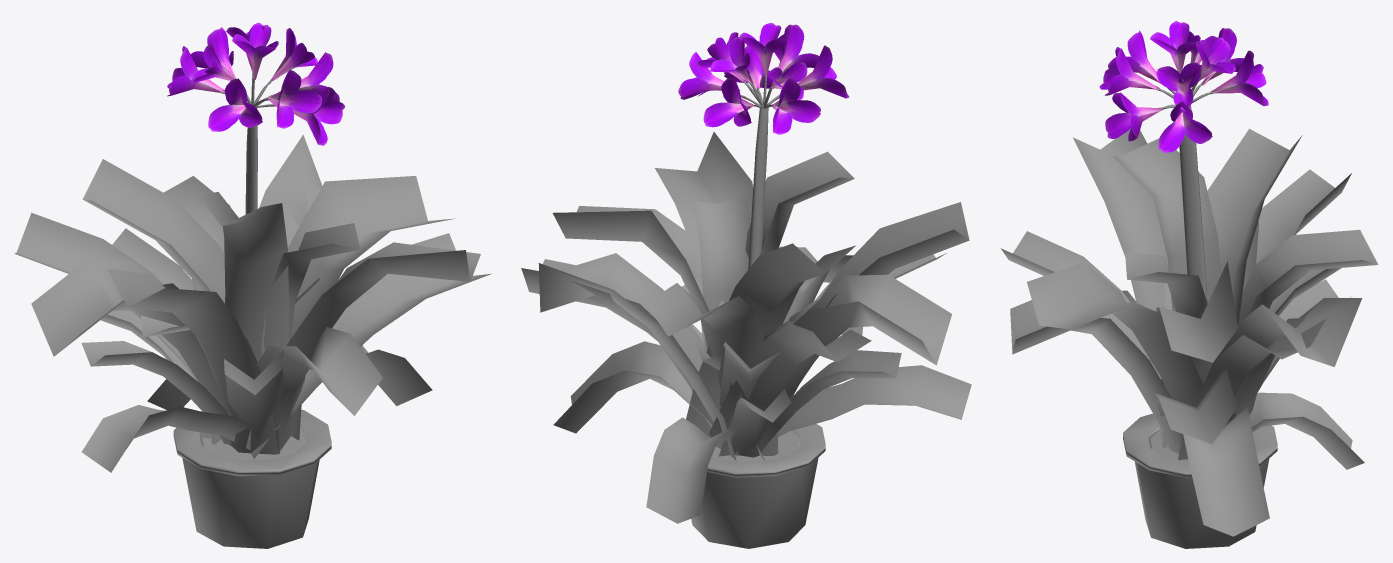
File: Lily_leafgreen_flower_lod1.fbx
3 renders of one model, left to right at view 1: azimuth 30°, elevation 25°; view 2: azimuth 150°, elevation 25°; view 3: azimuth 270°, elevation 25°, orthographic. The views are drawn at different scales.
Visible parts, largest first — view 1: Lily_leafgreen_flower_lod1; view 2: Lily_leafgreen_flower_lod1; view 3: Lily_leafgreen_flower_lod1.
Boxes of the visible parts, x1,y1,x2,y2 form: Lily_leafgreen_flower_lod1: (14,22,491,548); Lily_leafgreen_flower_lod1: (521,23,971,548); Lily_leafgreen_flower_lod1: (1000,21,1378,548).
Bounding box in the file's own units: 56 × 64.88 × 44.09.
4 materials, 1 textured.
